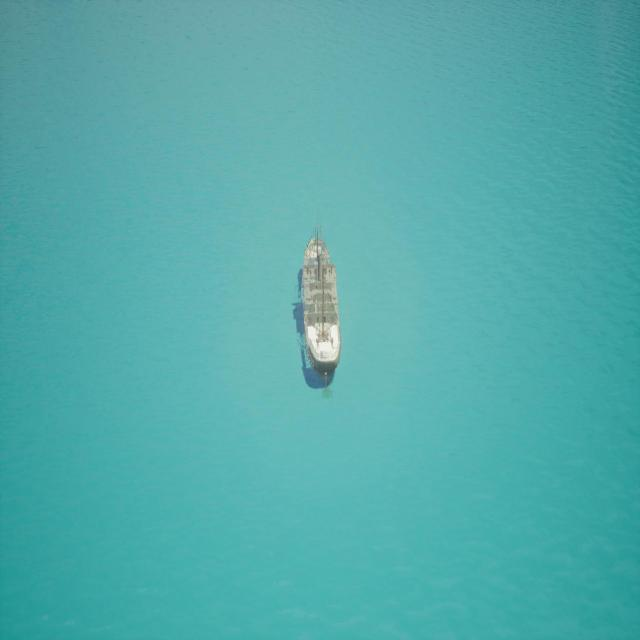fishing ship: (295, 226, 342, 397)
